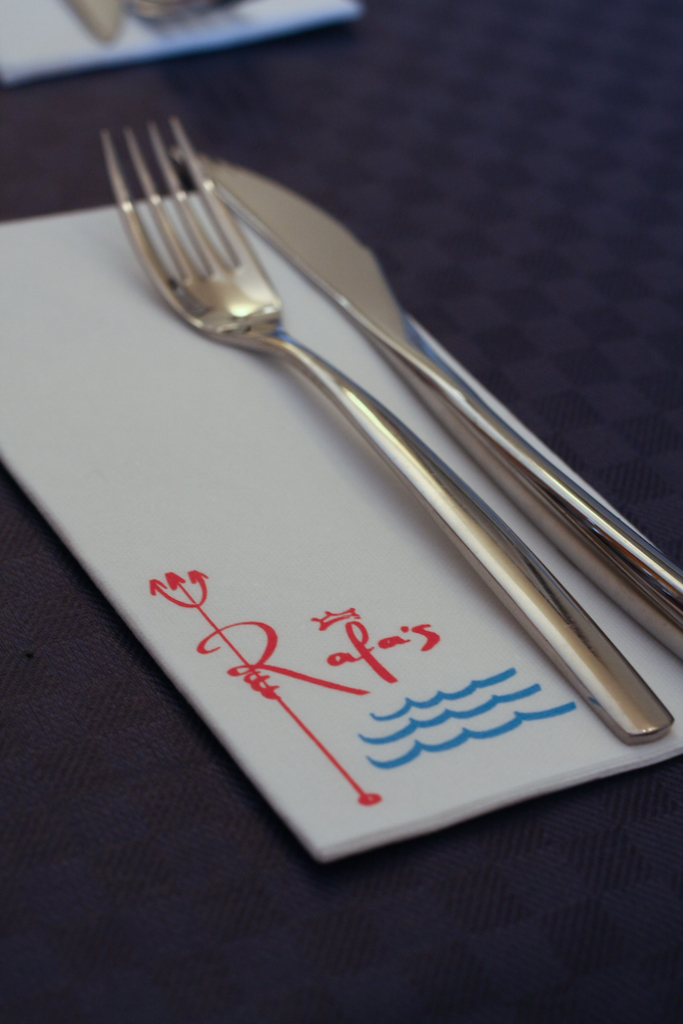fork: (98, 115, 675, 746)
